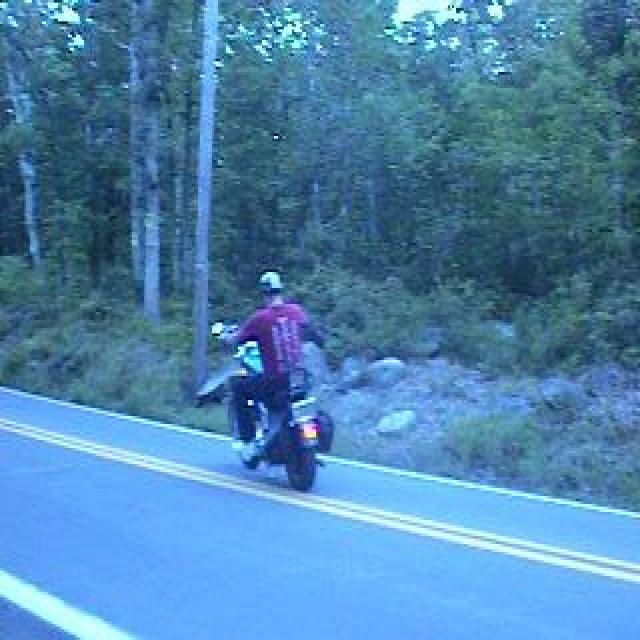motor: (211, 323, 326, 489)
